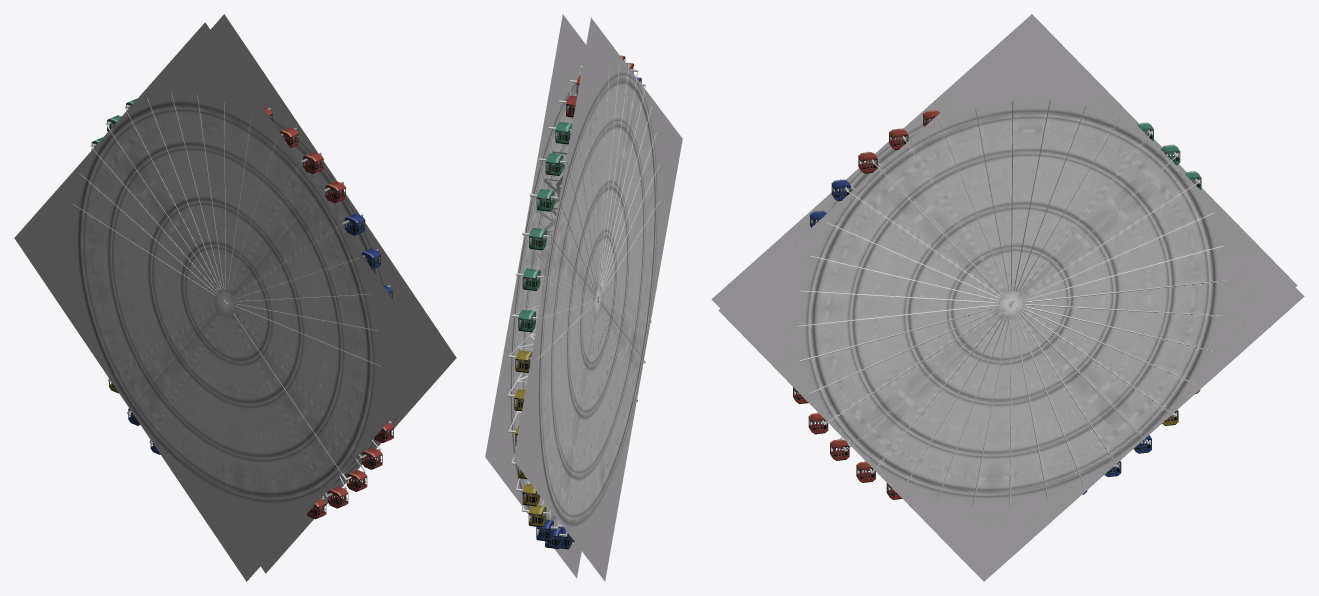
File: Suzuka_FerrisWheel.obj
3 renders of one model, left to right at view 1: azimuth 30°, elevation 25°; view 2: azimuth 150°, elevation 25°; view 3: azimuth 270°, elevation 25°, orthographic. The views are drawn at different scales.
Parts seen in each view (by area): view 1: suzuka_ferriswheel; view 2: suzuka_ferriswheel; view 3: suzuka_ferriswheel.
Part boxes in pixels (bbox=[...]): suzuka_ferriswheel: bbox=[14, 14, 456, 581]; suzuka_ferriswheel: bbox=[485, 14, 682, 581]; suzuka_ferriswheel: bbox=[711, 14, 1304, 581].
Size of the model in its own units: 41.96 by 140 by 136.
Materials: 3 (3 with a texture image).
